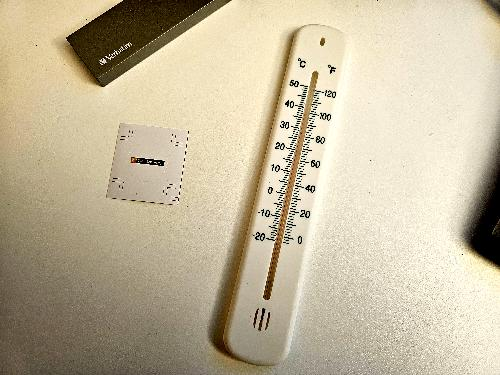thermo: (220, 23, 362, 362)
